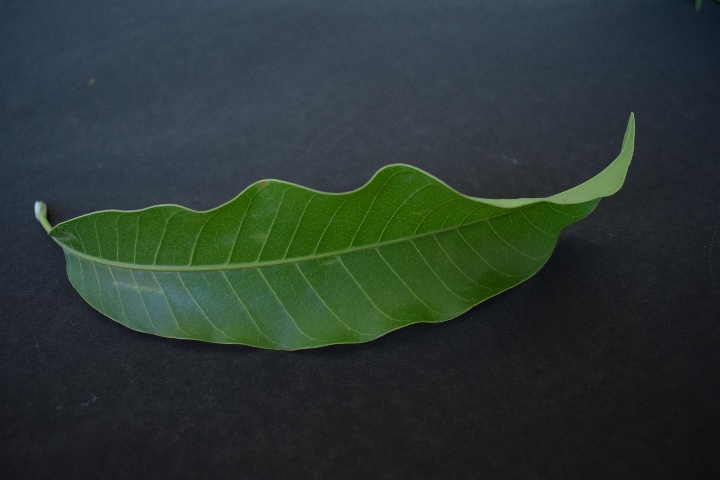healthy: (44, 134, 647, 364)
